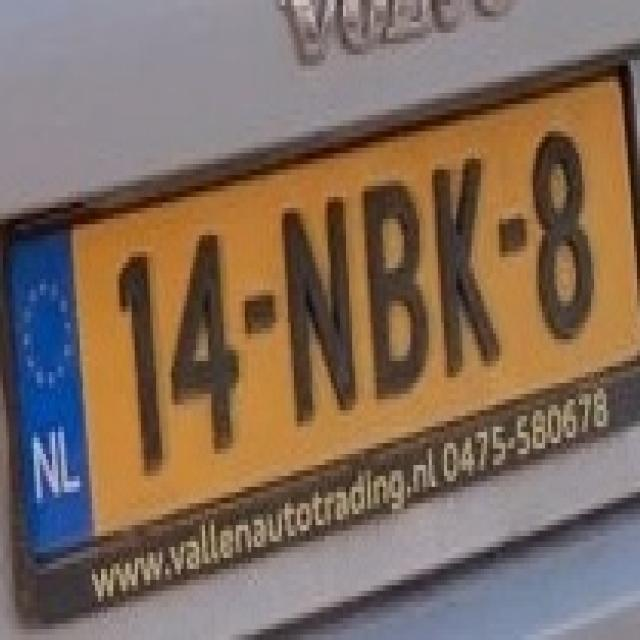1: (101, 224, 175, 470)
4: (153, 214, 245, 454)
8: (514, 110, 604, 340)
B: (346, 158, 435, 400)
K: (419, 142, 508, 378)
N: (266, 180, 364, 427)
